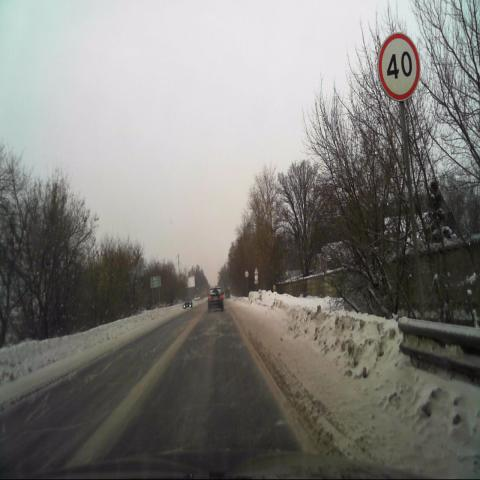3_24: (378, 32, 421, 102)
